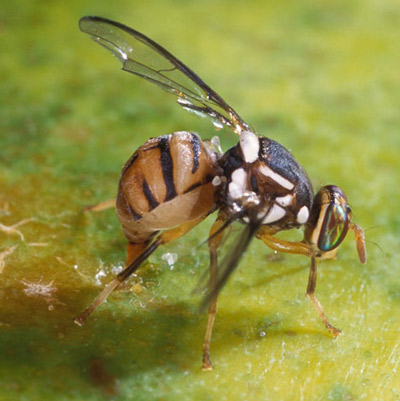Fruit fly: (70, 38, 380, 344)
